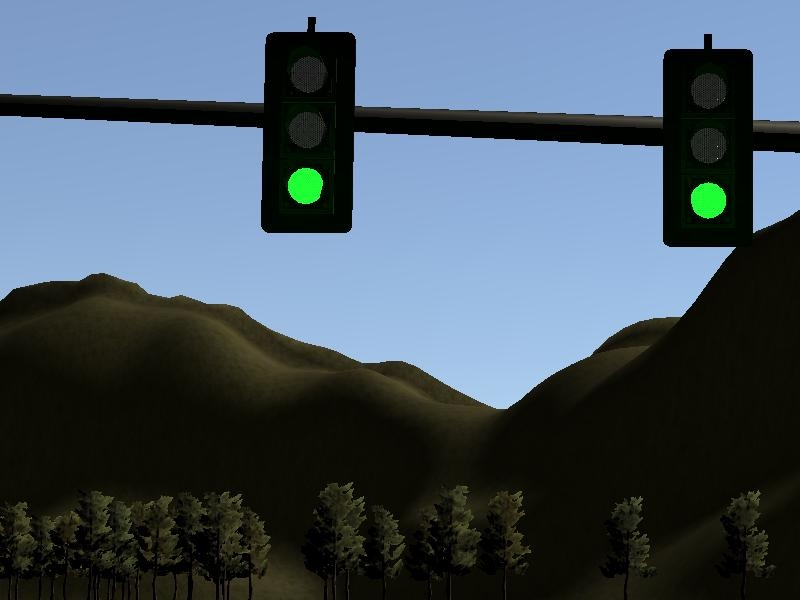GREEN: (260, 32, 355, 233), (660, 48, 755, 249)
